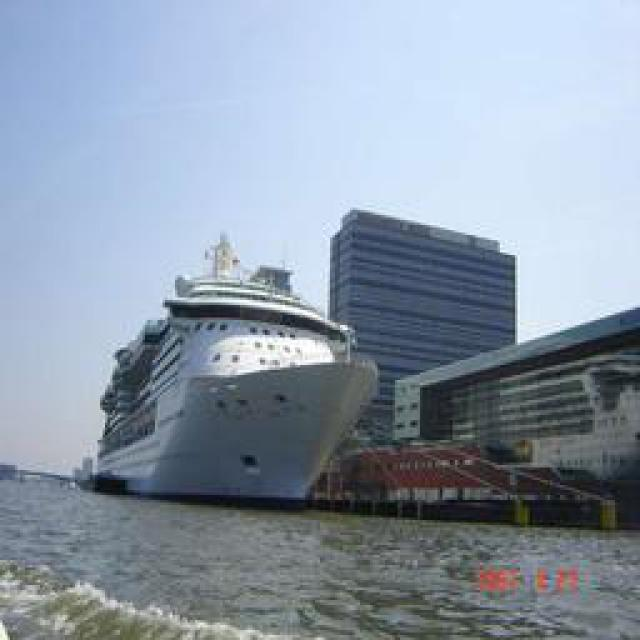Ship: (89, 251, 384, 506)
